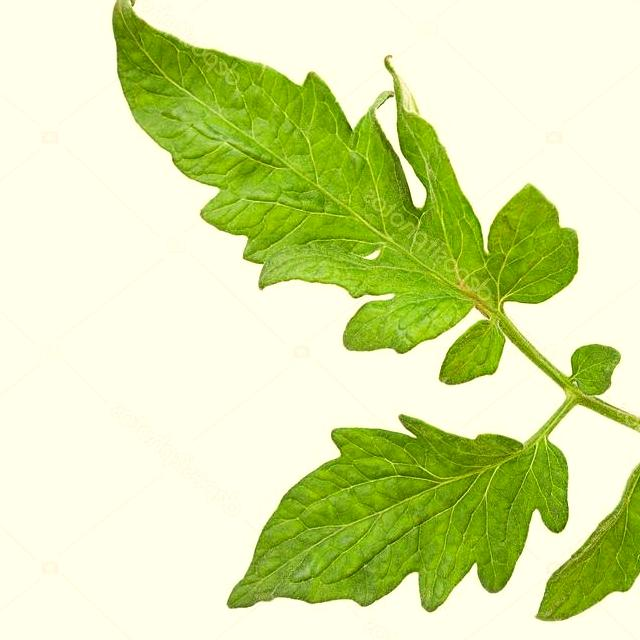Tomato leaf: (71, 0, 613, 374), (181, 427, 572, 621), (531, 439, 640, 631)
